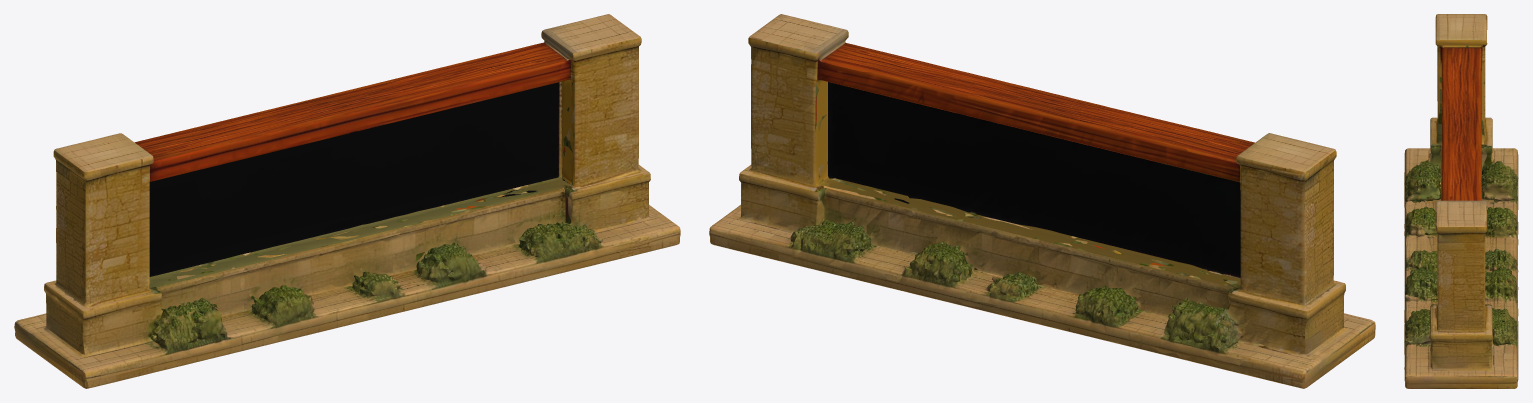
Rendered from entrance-sign.glb.
3 views of the same model, side by side, from view 1: azimuth 30°, elevation 25°; view 2: azimuth 150°, elevation 25°; view 3: azimuth 270°, elevation 25° (orthographic). The views are drawn at different scales.
Parts seen in each view (by area): view 1: textured_mesh; view 2: textured_mesh; view 3: textured_mesh.
Boxes of the visible parts, <box> form: textured_mesh: <box>14,14,680,388</box>; textured_mesh: <box>709,14,1375,388</box>; textured_mesh: <box>1404,14,1518,388</box>.
Bounding box in the file's own units: 1.99 × 0.6338 × 0.4209.
Materials: 1 (1 with a texture image).
